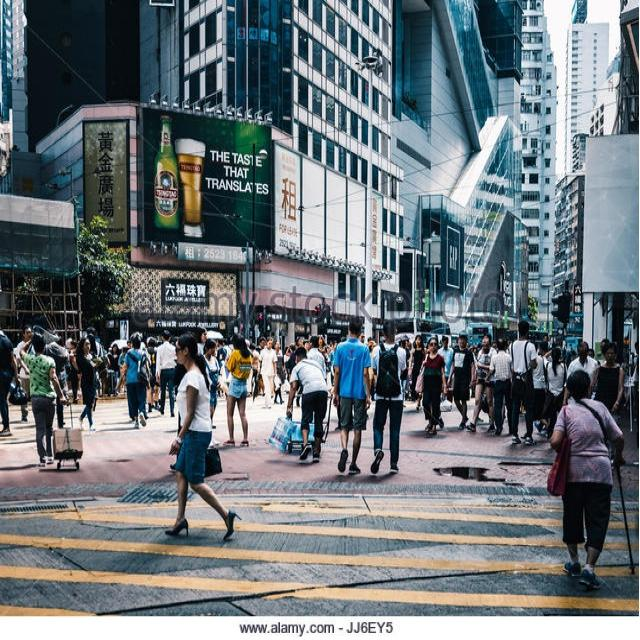body: (543, 367, 637, 590), (163, 331, 245, 544), (58, 323, 256, 407), (267, 343, 329, 463), (18, 328, 69, 469), (330, 315, 374, 476), (365, 318, 409, 475), (464, 332, 515, 437), (527, 336, 579, 433), (503, 317, 537, 448), (282, 332, 347, 396), (221, 332, 254, 447), (596, 334, 639, 419), (413, 335, 448, 438), (465, 331, 498, 435), (444, 330, 477, 431), (392, 331, 431, 416), (119, 330, 151, 431), (484, 337, 515, 438), (0, 326, 28, 436), (196, 336, 224, 445), (42, 332, 72, 430), (74, 336, 104, 432), (560, 339, 599, 408), (541, 346, 569, 436), (591, 341, 625, 412), (153, 328, 179, 418), (16, 324, 38, 423), (360, 330, 386, 407), (256, 336, 282, 410), (529, 338, 549, 431), (535, 338, 554, 434), (406, 332, 427, 412), (436, 335, 455, 404), (273, 340, 287, 406), (106, 342, 122, 397), (305, 334, 328, 372), (587, 346, 602, 366), (254, 335, 268, 354)
